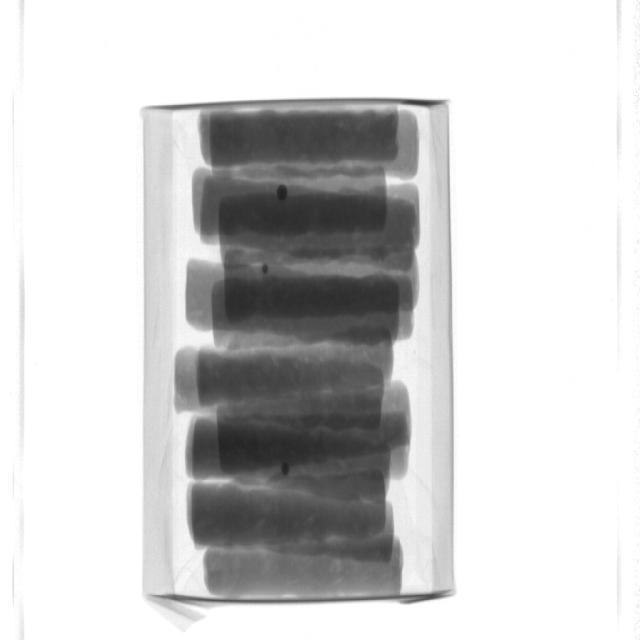ym: (277, 184, 289, 202), (281, 463, 291, 476), (264, 266, 271, 276)
